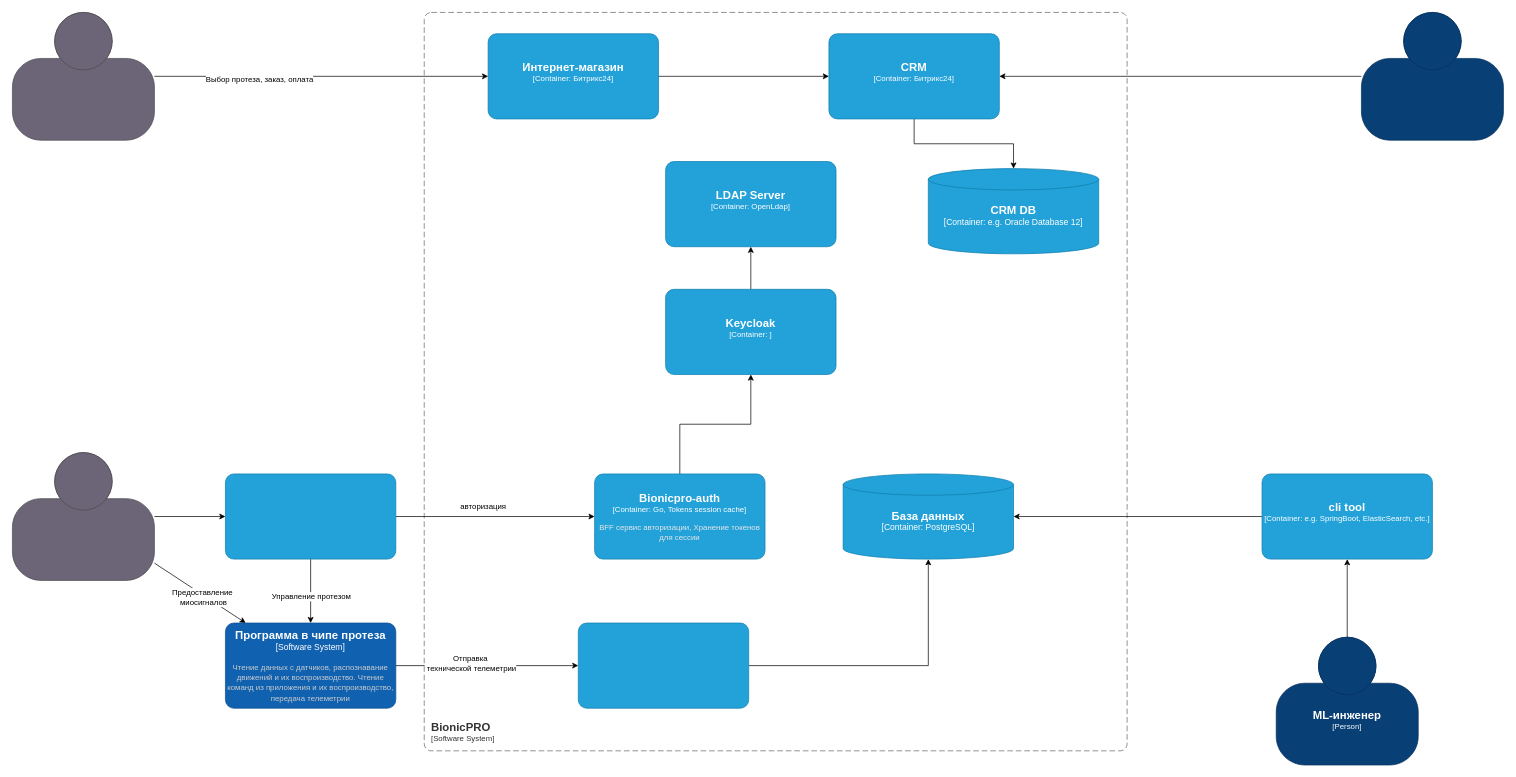
The diagram is 1516 pixels wide and 777 high, and some of its shapes have lost their labels. The shapes that lost their labels are listed below. From the top down, each one's centre as x and y in pixels, then its label:
At [83,76]: "Покупатель протеза [Person]".
At [1432,76]: "Оператор производства [Person]".
At [83,516]: "Пилот протеза [Person] С этого человека считываются данные".
At [310,516]: "Приложение для донастройки протеза [Container: iOD, Android]".
At [663,665]: "API [Container: e.g. SpringBoot, ElasticSearch, etc.]".
